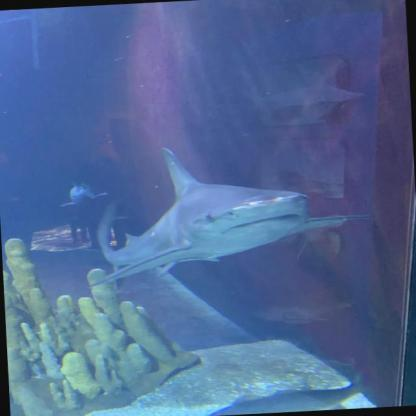fish: (189, 368, 379, 416), (59, 184, 108, 208)
shark: (81, 138, 360, 286)
